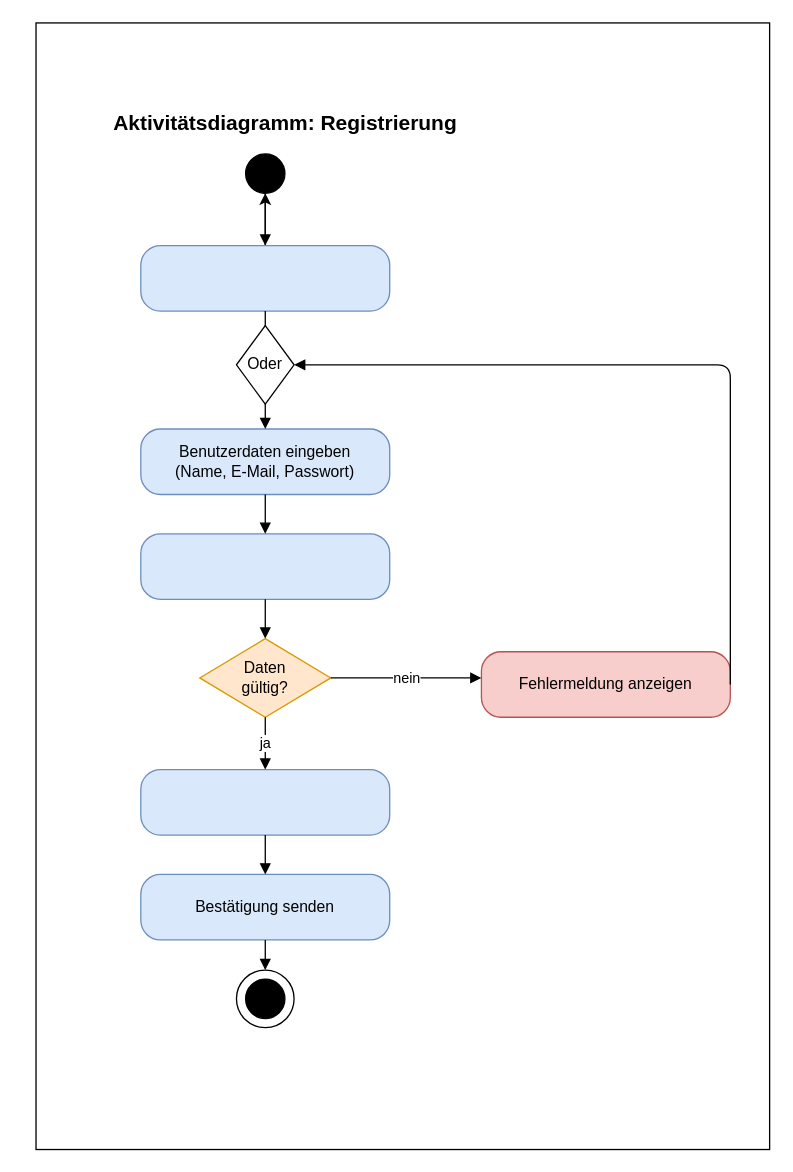
Image size: 793x1172. Some labels were removed from this diagram. The centre of each missing label's shape, as x and y in pixels:
"Eingaben validieren" belongs at [265,566].
"Konto erstellen" belongs at [265,801].
"Registrierungsformular öffnen" belongs at [265,277].
